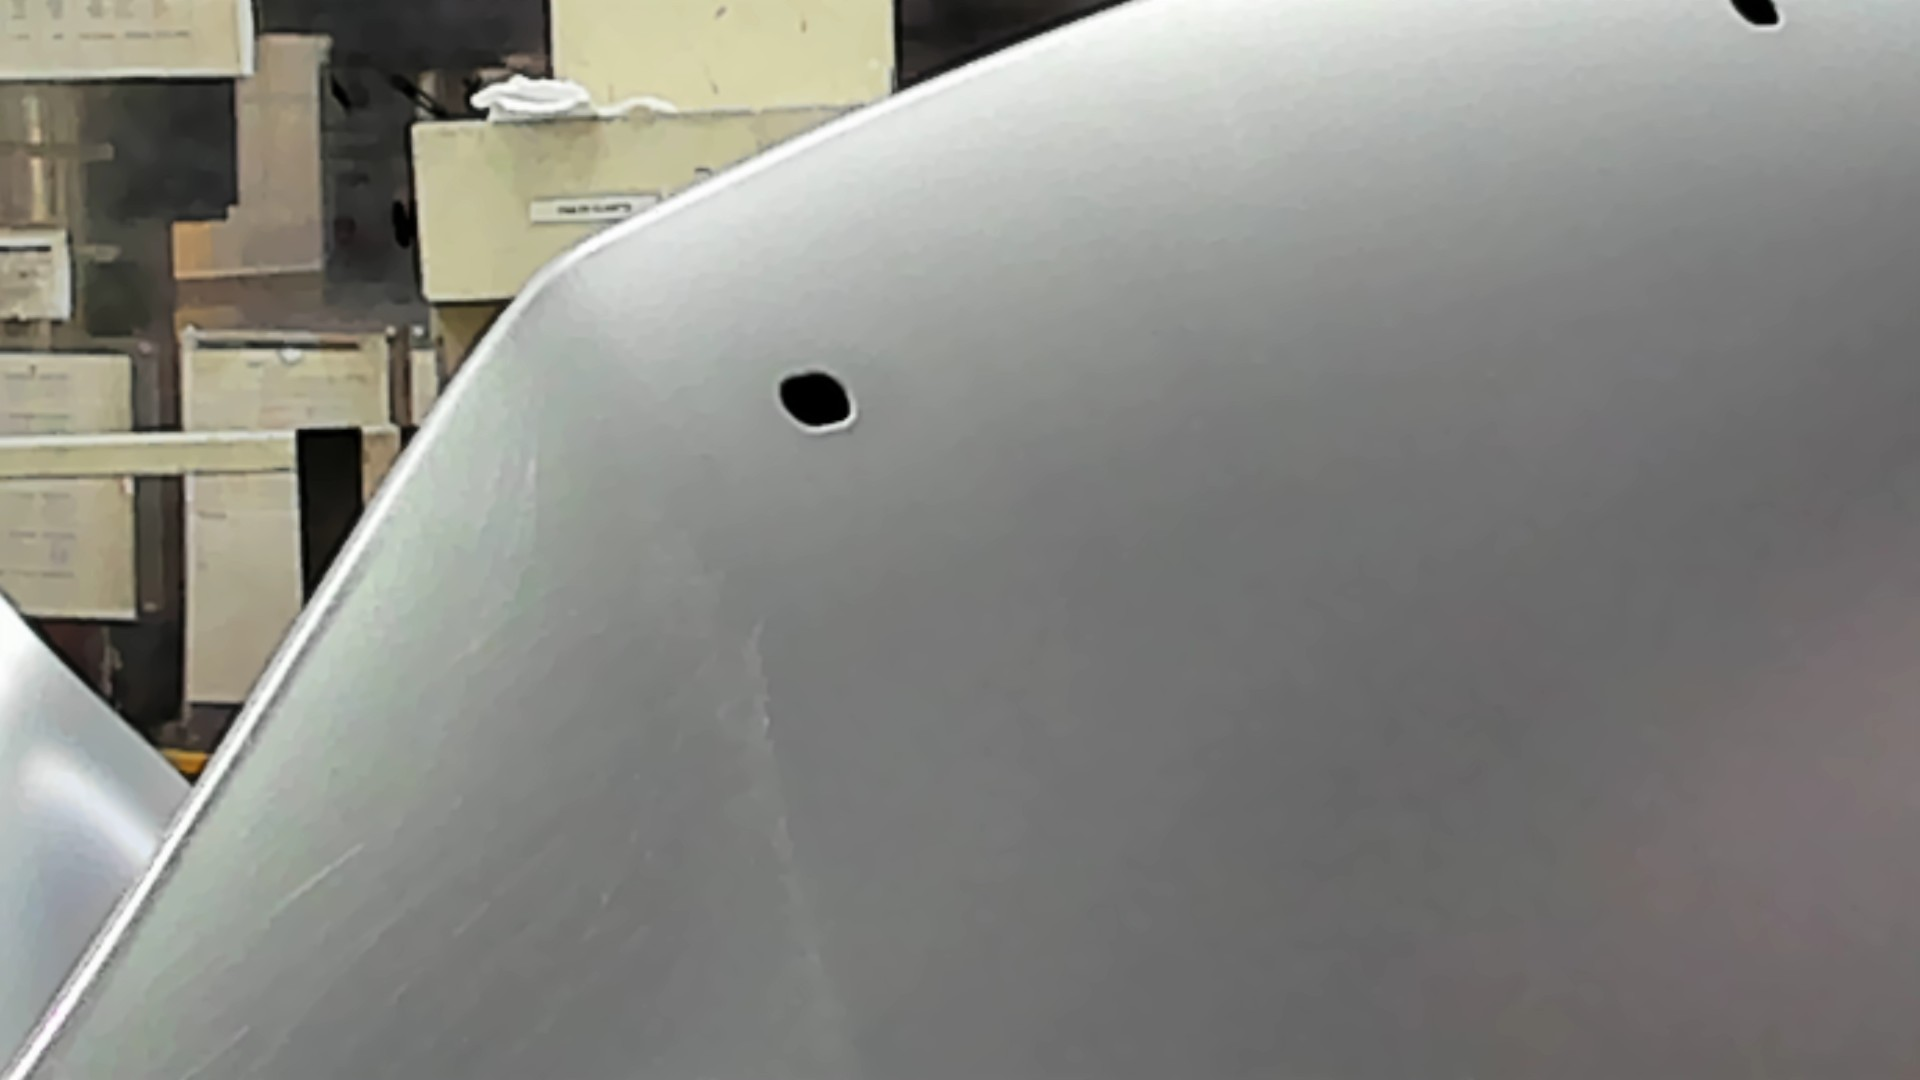amorfo: (769, 365, 857, 436), (1727, 1, 1793, 36)
capo: (920, 92, 1920, 1080)
